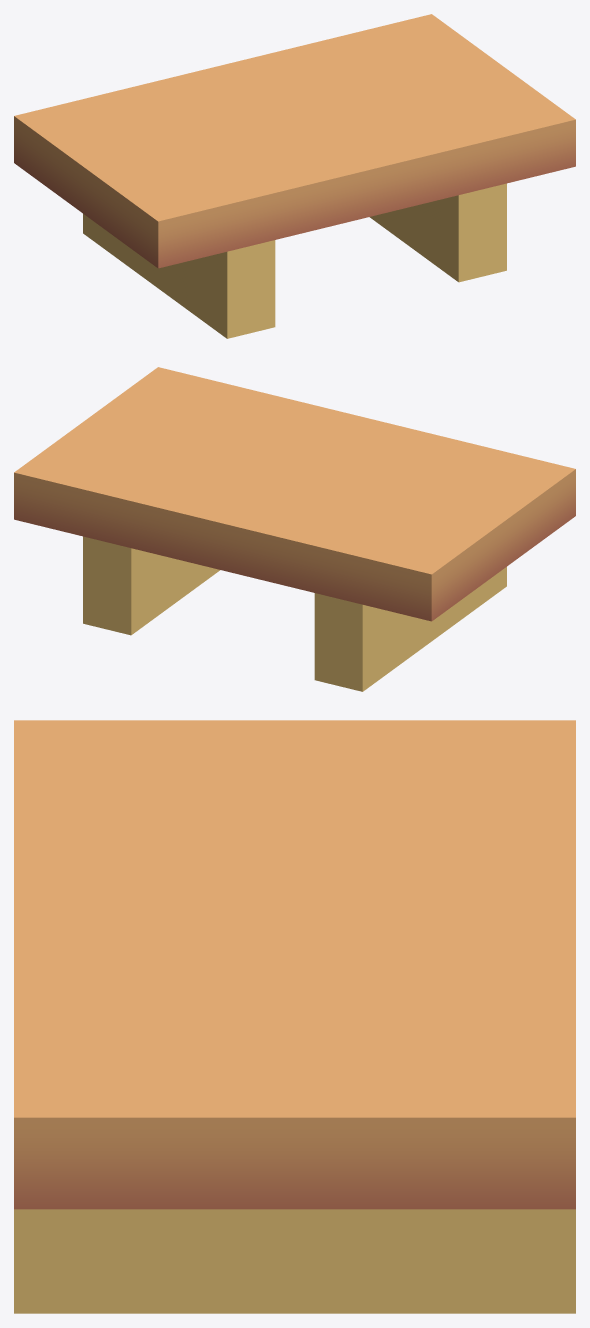
Rendered from Chair_Wood.fbx.
3 renders of one model, top to bottom at view 1: azimuth 30°, elevation 25°; view 2: azimuth 150°, elevation 25°; view 3: azimuth 270°, elevation 25°, orthographic. The views are drawn at different scales.
Visible parts, largest first — view 1: Chair_Wood; view 2: Chair_Wood; view 3: Chair_Wood.
Boxes of the visible parts, x1,y1,x2,y2 form: Chair_Wood: (14, 14, 575, 338); Chair_Wood: (14, 367, 575, 691); Chair_Wood: (14, 720, 575, 1313).
Bounding box in the file's own units: 66.93 × 20.55 × 40.
